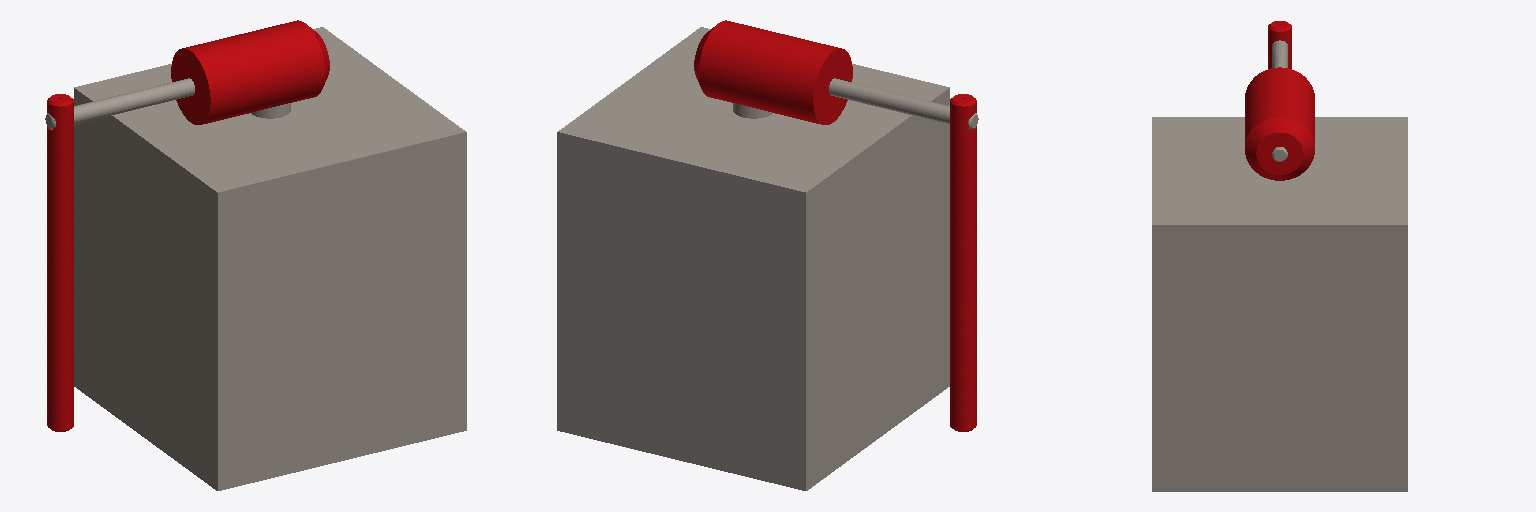
robot.urdf — qube_servo2:
<?xml version="1.0"?>
<!-- Generated by scripts/build_qube_urdf.py from the CAD of github.com/vohongquann/rotary-pendulum-matlab. Do not edit. -->
<robot name="qube_servo2">
  <link name="base">
    <inertial>
      <origin xyz="-0.000000 -0.000000 -0.058500" rpy="0 0 0"/>
      <mass value="1.217268"/>
      <inertia ixx="2.4440e-03" ixy="-1.7647e-21" ixz="-1.8494e-19" iyy="2.4440e-03" iyz="1.8974e-19" izz="2.1107e-03"/>
    </inertial>
    <visual>
      <origin xyz="0.000000 0.000000 0.000000" rpy="0.000000 0.000000 0.000000"/>
      <geometry><mesh filename="meshes/base.stl"/></geometry>
      <material name="grey"><color rgba="0.65 0.62 0.59 1"/></material>
    </visual>
  </link>
  <joint name="Revolute_1" type="continuous">
    <parent link="base"/>
    <child link="arm"/>
    <origin xyz="0 0 0" rpy="0 0 0"/>
    <axis xyz="0 0 1"/>
    <limit effort="10" velocity="1000"/>
  </joint>
  <link name="arm">
    <inertial>
      <origin xyz="-0.007369 -0.000000 0.016345" rpy="0 0 0"/>
      <mass value="0.084965"/>
      <inertia ixx="8.7668e-06" ixy="4.8345e-12" ixz="9.6756e-08" iyy="2.2190e-05" iyz="1.1981e-12" izz="2.1982e-05"/>
    </inertial>
    <visual>
      <origin xyz="0.000000 0.000000 0.000000" rpy="0.000000 0.000000 -0.000000"/>
      <geometry><mesh filename="meshes/circle.stl"/></geometry>
      <material name="grey"><color rgba="0.65 0.62 0.59 1"/></material>
    </visual>
    <visual>
      <origin xyz="0.019000 -0.000000 0.016500" rpy="0.000000 0.000000 3.141593"/>
      <geometry><mesh filename="meshes/module.stl"/></geometry>
      <material name="red"><color rgba="0.75 0.08 0.10 1"/></material>
    </visual>
  </link>
  <joint name="Revolute_2" type="continuous">
    <parent link="arm"/>
    <child link="pendulum"/>
    <origin xyz="-0.085900 0.000000 0.016500" rpy="0 0 0"/>
    <axis xyz="-1 0 0"/>
    <limit effort="10" velocity="1000"/>
  </joint>
  <link name="pendulum">
    <inertial>
      <origin xyz="0.014986 0.000000 -0.041131" rpy="0 0 0"/>
      <mass value="0.034035"/>
      <inertia ixx="5.5849e-05" ixy="2.8917e-11" ixz="-2.0978e-05" iyy="8.4386e-05" iyz="1.0601e-10" izz="2.8861e-05"/>
    </inertial>
    <visual>
      <origin xyz="0.000000 0.000000 0.000000" rpy="-3.141593 0.000000 -1.570796"/>
      <geometry><mesh filename="meshes/pendulum.stl"/></geometry>
      <material name="red"><color rgba="0.75 0.08 0.10 1"/></material>
    </visual>
    <visual>
      <origin xyz="0.106400 -0.000000 -0.000000" rpy="-2.385202 0.000000 3.141593"/>
      <geometry><mesh filename="meshes/pivot.stl"/></geometry>
      <material name="grey"><color rgba="0.65 0.62 0.59 1"/></material>
    </visual>
  </link>
</robot>

--- Render facts (derived) ---
3 views of the same robot in one strip: view 1: azimuth 30°, elevation 25°; view 2: azimuth 150°, elevation 25°; view 3: azimuth 270°, elevation 25° (orthographic).
Model qube_servo2 with 3 links and 2 joints (2 continuous), rooted at base, posed every joint at zero.
Links seen in each view (by area): view 1: base, arm, pendulum; view 2: base, arm, pendulum; view 3: base, arm, pendulum.
Link boxes in pixels (x1,y1,x2,y2): base: [74, 27, 466, 490]; arm: [171, 20, 329, 124]; pendulum: [45, 78, 194, 431]; base: [557, 27, 949, 490]; arm: [694, 20, 852, 124]; pendulum: [829, 78, 978, 431]; base: [1152, 117, 1407, 491]; arm: [1245, 67, 1314, 180]; pendulum: [1268, 21, 1291, 161].
Bounding box of the posed robot: 0.1417 × 0.102 × 0.1475 m (x, y, z).
5 mesh visuals loaded from 5 distinct referenced files (5 binary STL).
